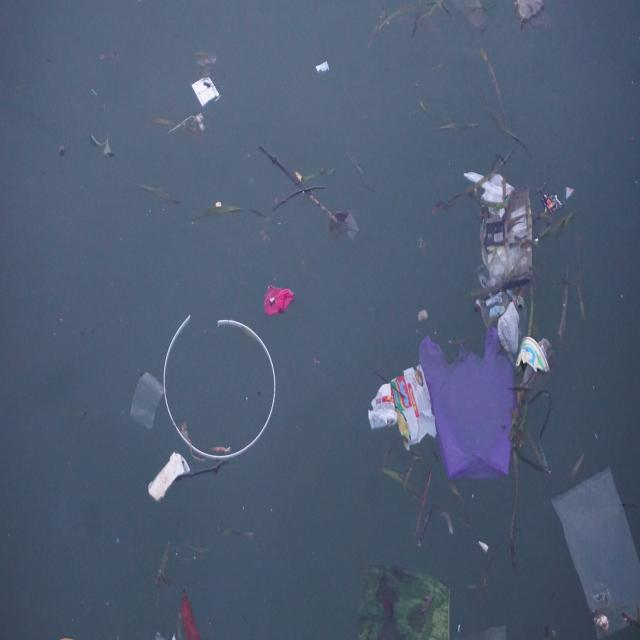Bungkus Makanan: (366, 361, 440, 452), (192, 69, 222, 114)
Kantong Plastik: (417, 324, 519, 489), (552, 465, 640, 636), (264, 277, 297, 321)
